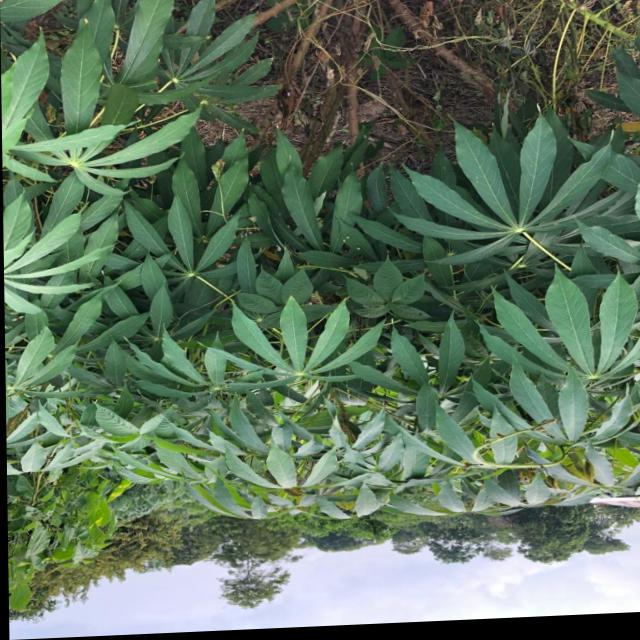Maleza: (5, 483, 102, 584)
Mosca: (350, 240, 366, 253), (79, 12, 90, 30), (341, 229, 351, 247)
